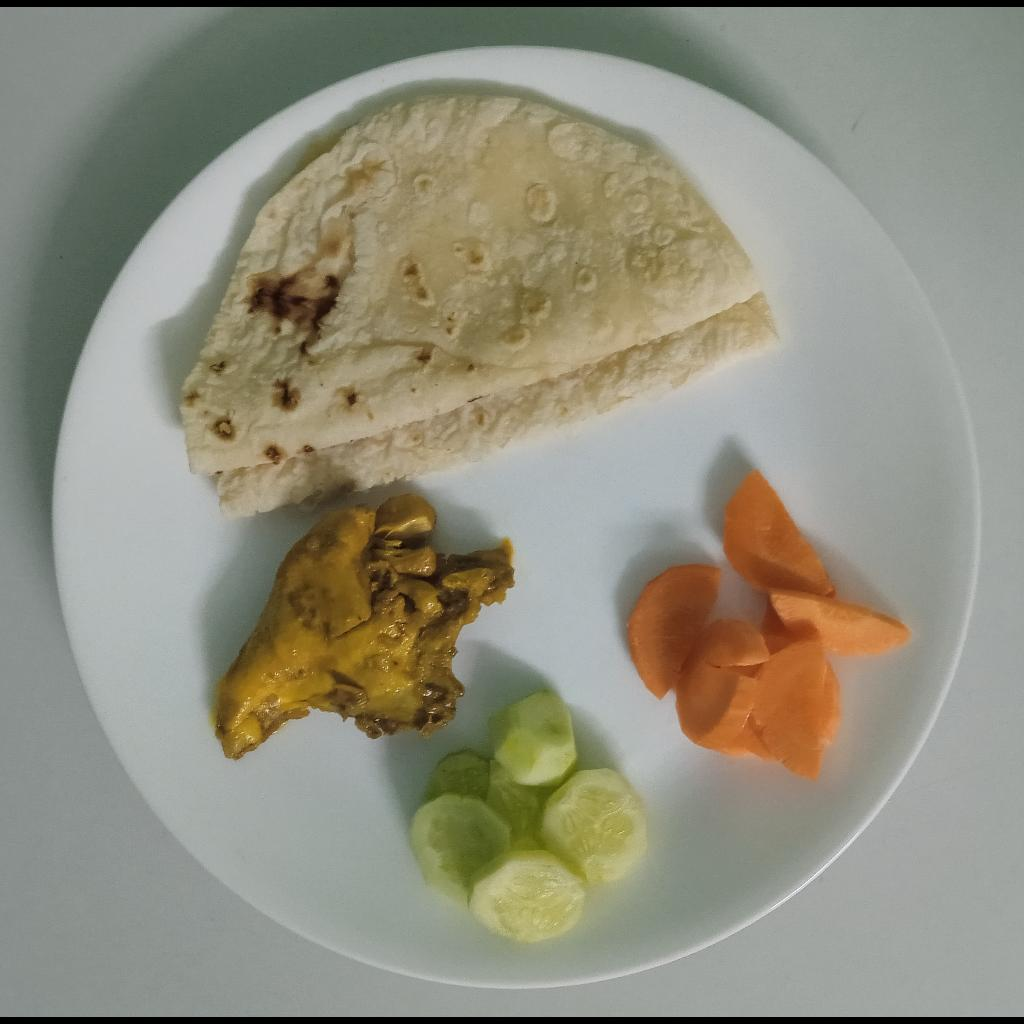carrot: (622, 467, 914, 778)
chicken: (207, 487, 514, 765)
cucumber: (399, 693, 652, 947)
ruti: (182, 93, 783, 528)
